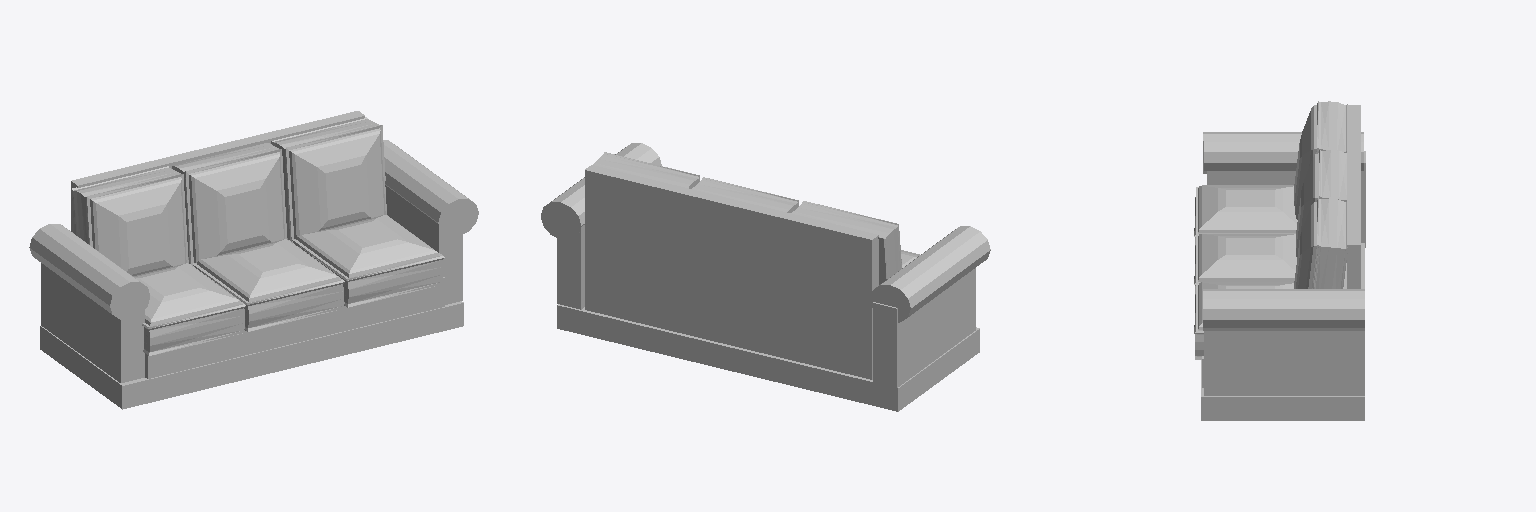
Rendered from couch.obj.
3 views of the same model, side by side, from view 1: azimuth 30°, elevation 25°; view 2: azimuth 150°, elevation 25°; view 3: azimuth 270°, elevation 25° (orthographic).
Visible parts, largest first — view 1: Box6, cushion4, cushion3, cushion5, cushion1, cushion, cushion2, Box5, Box4, Circle1, Circle, Box7 (+1 smaller); view 2: Box7, Box6, Box4, Circle1, cushion5, Circle, Box3, cushion4, cushion3; view 3: Box3, Circle, cushion2, cushion, Box6, cushion4, Circle1, cushion5, Box7, cushion3, Box4, cushion1.
Boxes of the visible parts, box(x1,y1,x2,y2) form: Box6: box(40, 301, 463, 409); cushion4: box(271, 117, 386, 242); cushion3: box(172, 143, 287, 265); cushion5: box(72, 166, 188, 275); cushion1: box(292, 215, 444, 307); cushion: box(193, 239, 344, 331); cushion2: box(133, 263, 245, 355); Box5: box(145, 277, 444, 378); Box4: box(41, 263, 144, 382); Circle1: box(29, 224, 149, 319); Circle: box(383, 140, 478, 236); Box7: box(71, 111, 364, 232); Box7: box(585, 165, 878, 379); Box6: box(557, 304, 979, 411); Box4: box(873, 268, 975, 392); Circle1: box(870, 226, 990, 322); cushion5: box(791, 201, 901, 284); Circle: box(541, 143, 661, 239); Box3: box(557, 225, 584, 309); cushion4: box(593, 152, 699, 188); cushion3: box(692, 177, 798, 212); Box3: box(1204, 331, 1364, 395); Circle: box(1203, 289, 1364, 330); cushion2: box(1194, 185, 1297, 244); cushion: box(1194, 234, 1296, 293); Box6: box(1201, 243, 1364, 420); cushion4: box(1294, 198, 1347, 288); Circle1: box(1203, 132, 1363, 173); cushion5: box(1294, 101, 1347, 219); Box7: box(1347, 105, 1360, 288); cushion3: box(1296, 150, 1346, 256); Box4: box(1207, 151, 1365, 247); cushion1: box(1194, 282, 1293, 359).
Bounding box in the file's own units: 3.85 × 1.64 × 1.55.